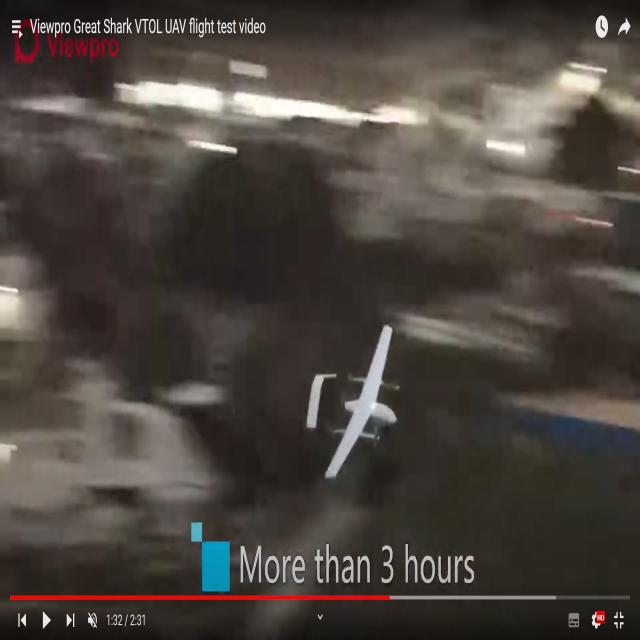iha: (336, 326, 366, 480)
